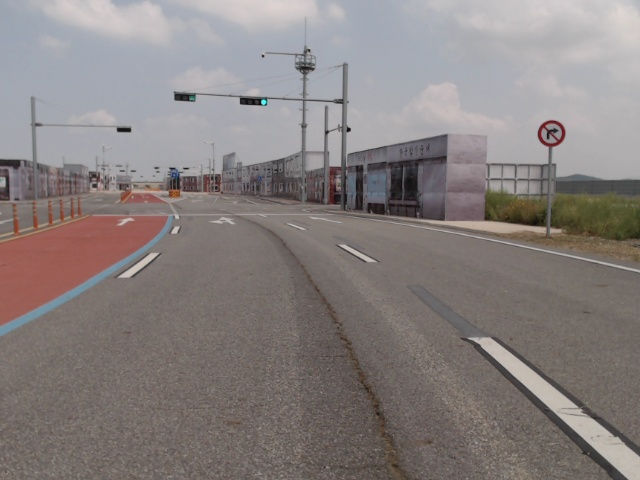straight_green_4: (241, 98, 268, 107)
